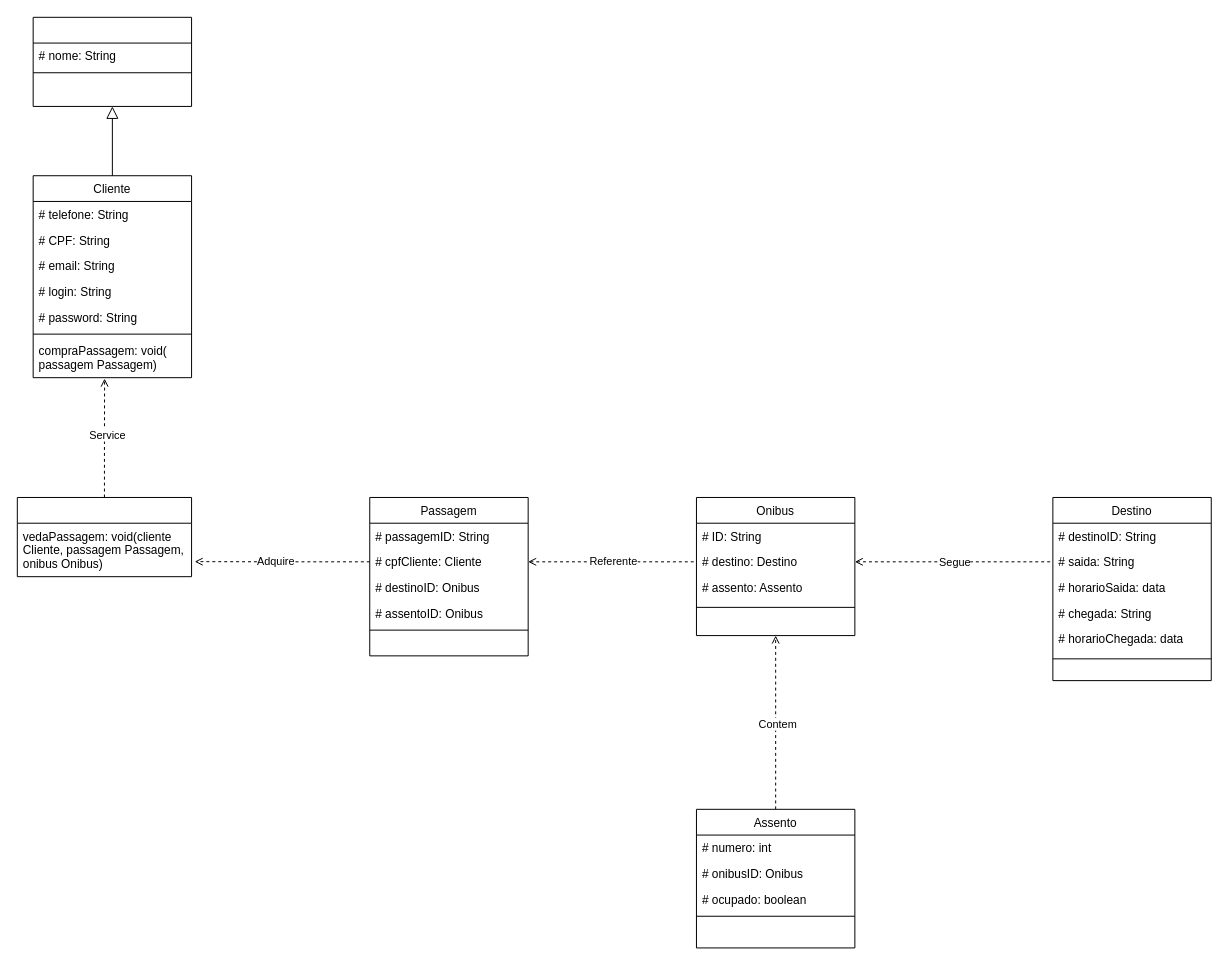
This 1229x965 diagram has some shape labels left out. The box of each missing label's shape, as (x1, y1, x2, y2) in pixels:
Pessoa: (32, 16, 192, 106)
ServiceCompraPassagem: (16, 496, 192, 577)
